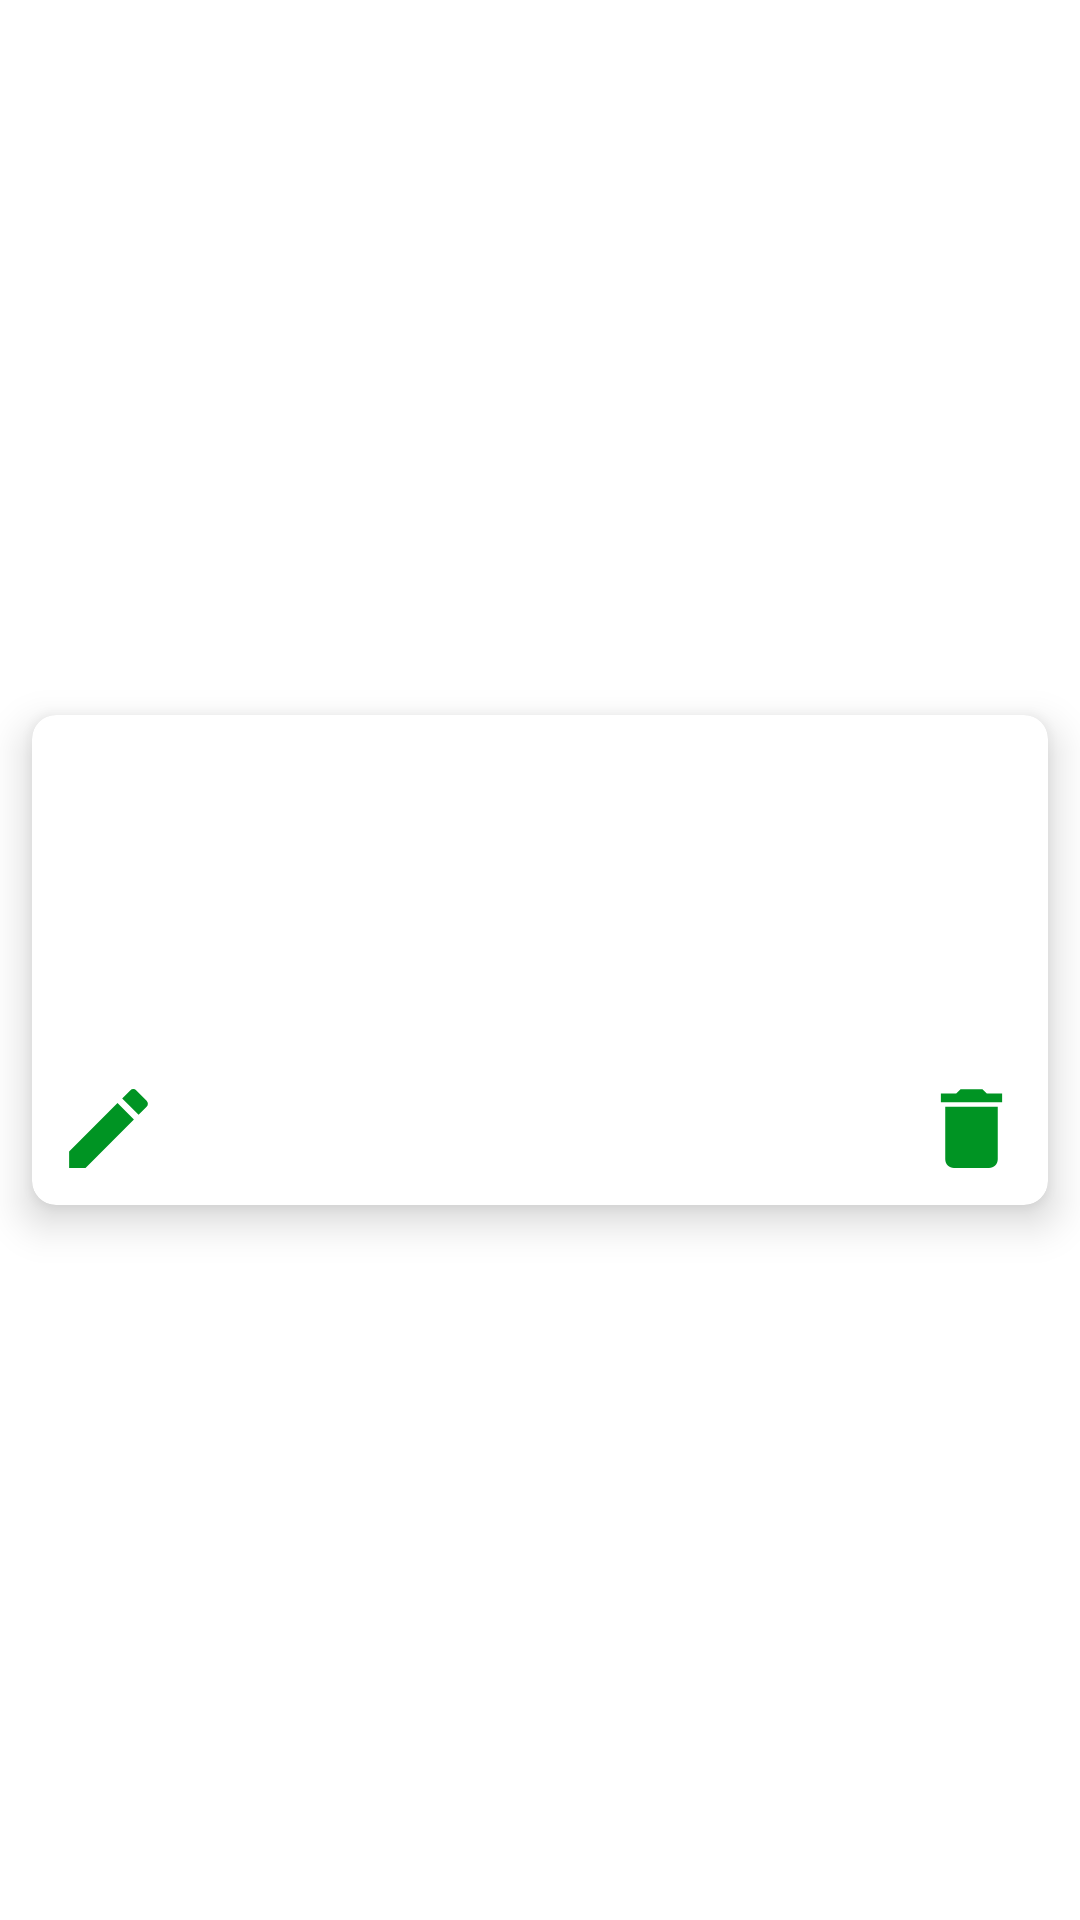

Where to tap for icons on this 1080*1920 app screen, as (x,y):
delete: (971,1128)
edit: (108,1128)
